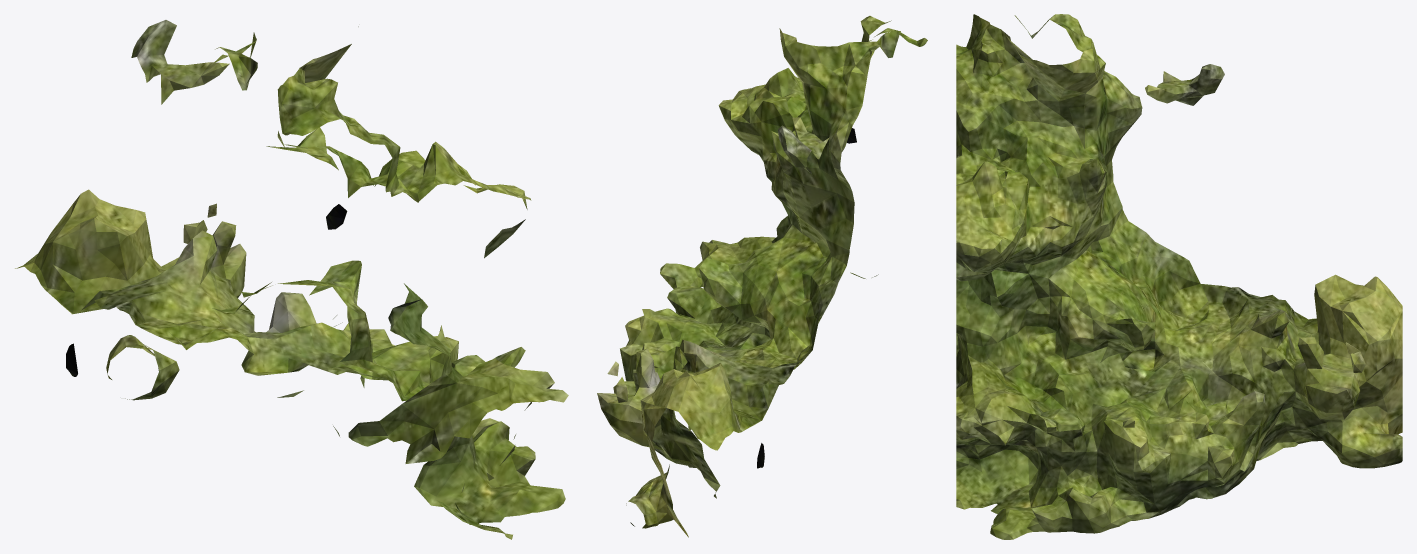
3 renders of one model, left to right at view 1: azimuth 30°, elevation 25°; view 2: azimuth 150°, elevation 25°; view 3: azimuth 270°, elevation 25°, orthographic. The views are drawn at different scales.
Size of the model in its own units: 3.81 by 5.9 by 5.9.
4 materials, 4 textured.
